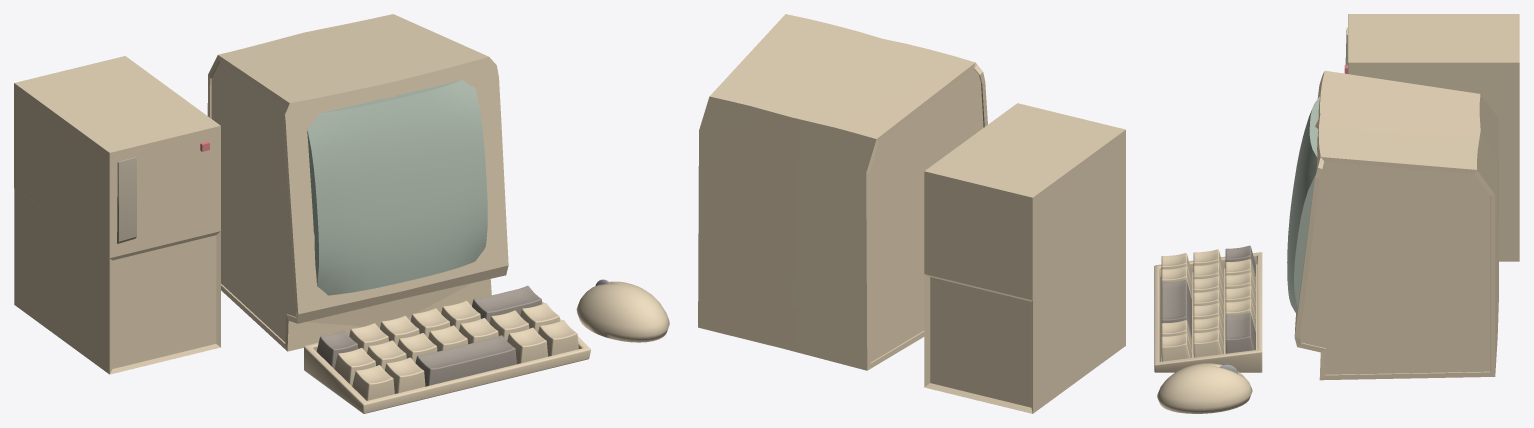
3 views of the same model, side by side, from view 1: azimuth 30°, elevation 25°; view 2: azimuth 150°, elevation 25°; view 3: azimuth 270°, elevation 25° (orthographic). The views are drawn at different scales.
Parts seen in each view (by area): view 1: Cube.002, Cube, Cube.001, Plane.001, Plane, Sphere; view 2: Cube, Cube.002; view 3: Cube, Cube.002, Plane.001, Sphere, Cube.001, Plane.
Boxes of the visible parts, <box> form: Cube.002: <box>14,56,220,374</box>; Cube: <box>207,14,508,351</box>; Cube.001: <box>307,80,487,295</box>; Plane.001: <box>316,285,578,400</box>; Plane: <box>304,301,590,413</box>; Sphere: <box>576,279,669,342</box>; Cube: <box>698,14,987,370</box>; Cube.002: <box>924,103,1125,413</box>; Cube: <box>1294,70,1498,380</box>; Cube.002: <box>1344,14,1519,261</box>; Plane.001: <box>1161,245,1255,361</box>; Sphere: <box>1157,363,1252,413</box>; Cube.001: <box>1287,96,1319,312</box>; Plane: <box>1154,252,1262,372</box>.
Bounding box in the file's own units: 841 × 429 × 634.
